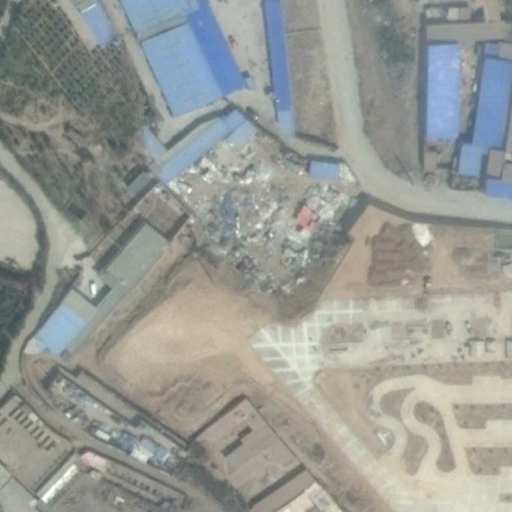msw: (168, 135, 357, 298)
